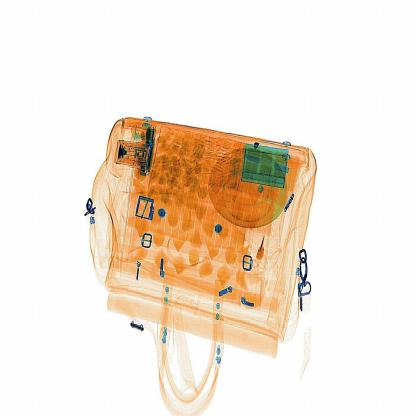wrench: (246, 226, 279, 268)
